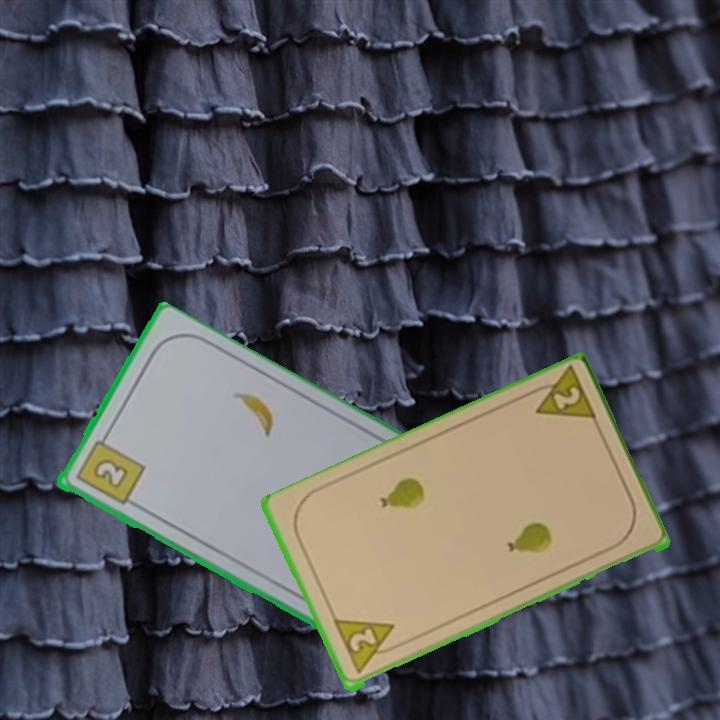2b: (71, 430, 147, 508)
2p: (522, 365, 600, 427), (330, 616, 404, 677)
